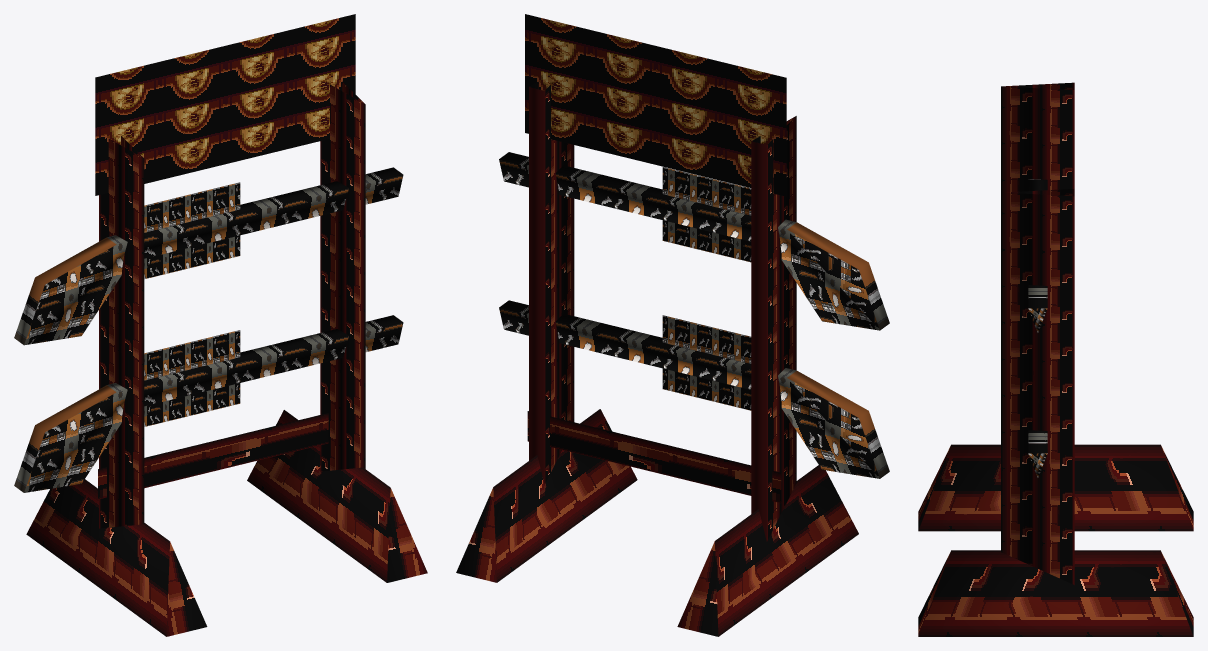
The model's file is 3330IMIG10_09.gltf.
The picture shows the model from 3 angles, left to right: view 1: azimuth 30°, elevation 25°; view 2: azimuth 150°, elevation 25°; view 3: azimuth 270°, elevation 25°; orthographic projection. The views are drawn at different scales.
Parts seen in each view (by area): view 1: 3330IMIG10_09; view 2: 3330IMIG10_09; view 3: 3330IMIG10_09.
Part boxes in pixels (x1,y1,x2,y2): 3330IMIG10_09: [14, 14, 427, 636]; 3330IMIG10_09: [456, 14, 889, 636]; 3330IMIG10_09: [918, 82, 1193, 636].
Size of the model in its own units: 0.8296 by 1.06 by 0.5305.
Materials: 3 (3 with a texture image).
